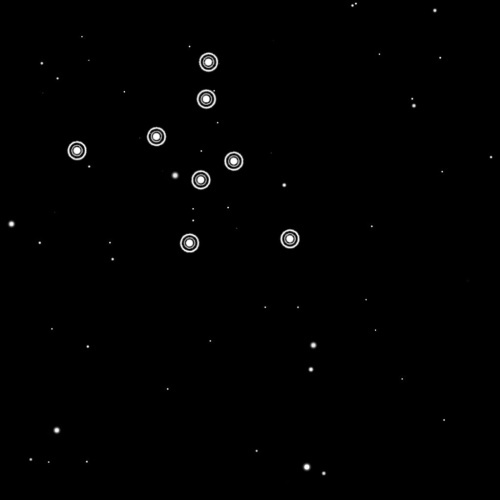hercules: (62, 47, 303, 259)
